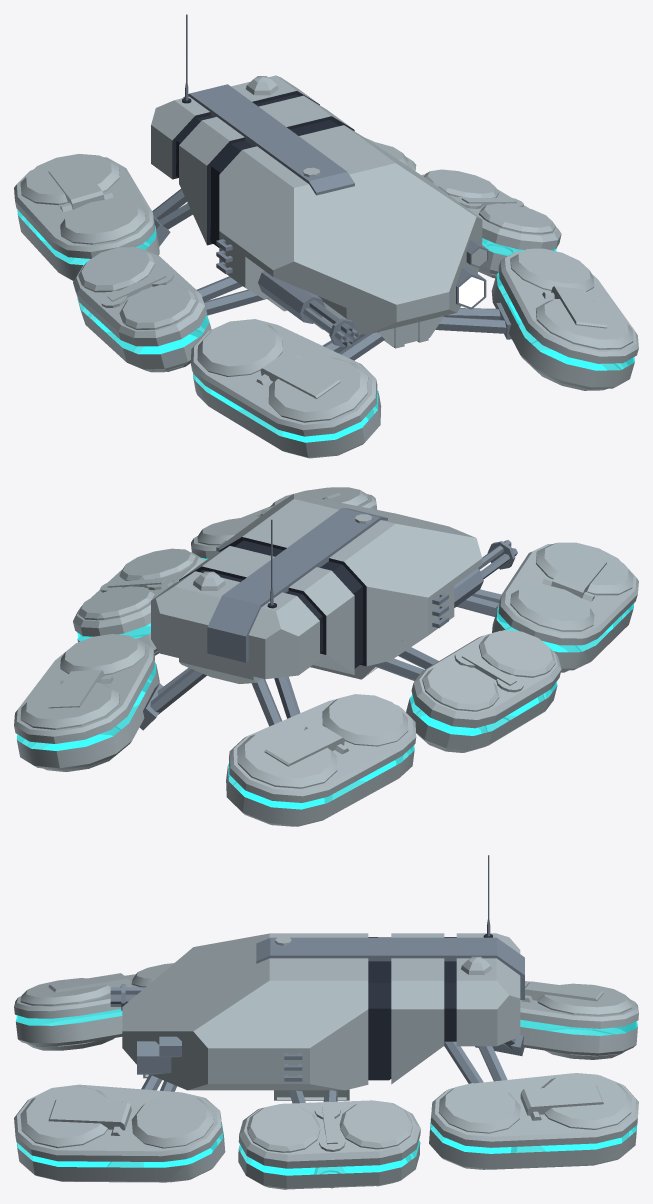
File: vehicle v1.gltf
3 views of the same model, one above another, from view 1: azimuth 30°, elevation 25°; view 2: azimuth 150°, elevation 25°; view 3: azimuth 270°, elevation 25° (orthographic). The views are drawn at different scales.
Visible parts, largest first — view 1: Body, front pads, pads, rear pads, top detail, gun body, front strut 1, light 1, barrel 1, mid strut 1, front strut 2, front center mount; view 2: Body, rear pads, pads, front pads, top detail, rear strut 2, gun body, rear center mont, rear strut 1, barrel 1, mid strut 2, front strut 2 (+1 smaller); view 3: Body, front pads, rear pads, pads, top detail, light 1, rear strut 1, rear strut 2, mid center mount, light 2.
Part boxes in pixels (x1,y1,x2,y2): Body: (151, 75, 482, 334); front pads: (191, 248, 638, 458); pads: (73, 169, 561, 372); rear pads: (14, 138, 416, 280); top detail: (182, 84, 354, 195); gun body: (258, 271, 356, 346); front strut 1: (339, 317, 506, 360); light 1: (456, 266, 486, 309); barrel 1: (303, 300, 359, 347); mid strut 1: (204, 289, 268, 315); front strut 2: (322, 308, 500, 352); front center mount: (378, 316, 443, 346); Body: (151, 493, 482, 679); rear pads: (14, 634, 416, 826); pads: (73, 548, 561, 752); front pads: (191, 487, 638, 672); top detail: (207, 508, 387, 662); rear strut 2: (150, 669, 282, 726); gun body: (402, 541, 515, 640); rear center mont: (179, 658, 261, 683); rear strut 1: (157, 667, 300, 718); barrel 1: (477, 540, 517, 579); mid strut 2: (376, 658, 424, 680); front strut 2: (456, 596, 498, 616); Body: (122, 933, 520, 1090); front pads: (14, 963, 225, 1182); rear pads: (429, 981, 638, 1169); pads: (238, 1100, 420, 1189); top detail: (256, 937, 524, 999); light 1: (137, 1041, 171, 1074); rear strut 1: (444, 1041, 483, 1083); rear strut 2: (478, 1039, 515, 1081); mid center mount: (274, 1089, 349, 1100); light 2: (159, 1036, 181, 1057).
Size of the model in its own units: 5.9 by 3.19 by 7.76.
